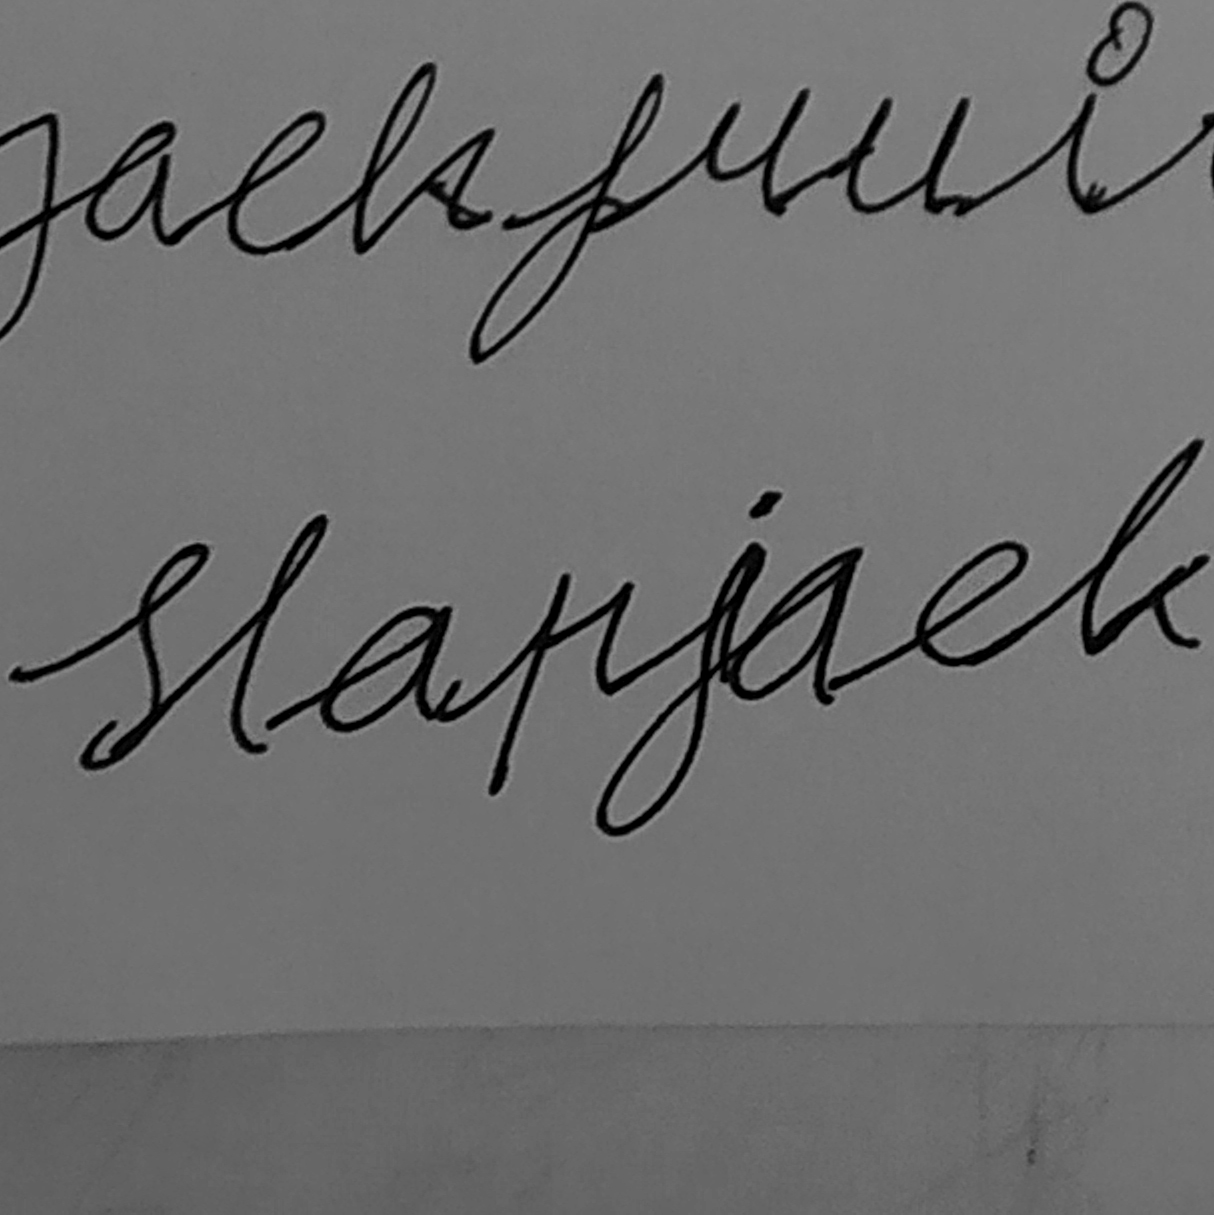a: (723, 536, 870, 716), (314, 597, 457, 736)
c: (905, 534, 1037, 674)
j: (590, 484, 785, 841)
k: (1075, 432, 1214, 659)
l: (223, 509, 332, 759)
p: (481, 568, 639, 801)
s: (67, 536, 213, 774)
